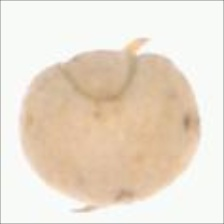L5: (49, 38, 152, 107), (69, 188, 167, 206)
L6: (20, 40, 204, 209)
